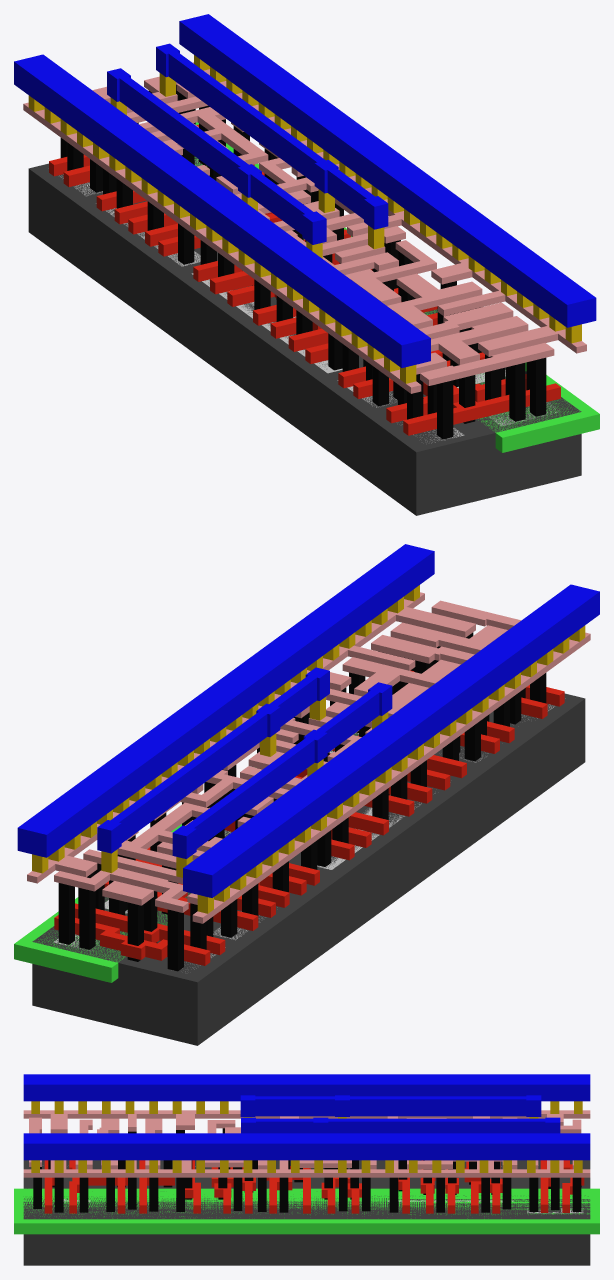
Rendered from sky130_fd_sc_hd__sdfxbp_1.obj.
3 views of the same model, one above another, from view 1: azimuth 30°, elevation 25°; view 2: azimuth 150°, elevation 25°; view 3: azimuth 270°, elevation 25° (orthographic). The views are drawn at different scales.
Parts seen in each view (by area): view 1: metal1, subs, li, licon, poly, mcon, nwell, diff; view 2: metal1, subs, li, licon, poly, mcon, nwell; view 3: metal1, subs, nwell, li, licon, poly, mcon.
Boxes of the visible parts, x1,y1,x2,y2 form: metal1: [14, 14, 596, 367]; subs: [28, 156, 581, 515]; li: [23, 62, 586, 393]; licon: [60, 84, 546, 439]; poly: [49, 124, 560, 435]; mcon: [28, 55, 581, 383]; nwell: [194, 122, 599, 452]; diff: [59, 174, 464, 443]; metal1: [17, 544, 599, 897]; subs: [32, 693, 585, 1045]; li: [27, 592, 590, 923]; licon: [58, 632, 546, 971]; poly: [54, 670, 564, 965]; mcon: [32, 585, 585, 913]; nwell: [14, 733, 358, 982]; metal1: [23, 1074, 590, 1160]; subs: [23, 1160, 590, 1265]; nwell: [14, 1188, 599, 1234]; li: [23, 1110, 590, 1177]; licon: [33, 1128, 581, 1212]; poly: [44, 1160, 584, 1213]; mcon: [31, 1101, 582, 1172].
Bounding box in the file's own units: 3.2 × 2.74 × 11.42.
